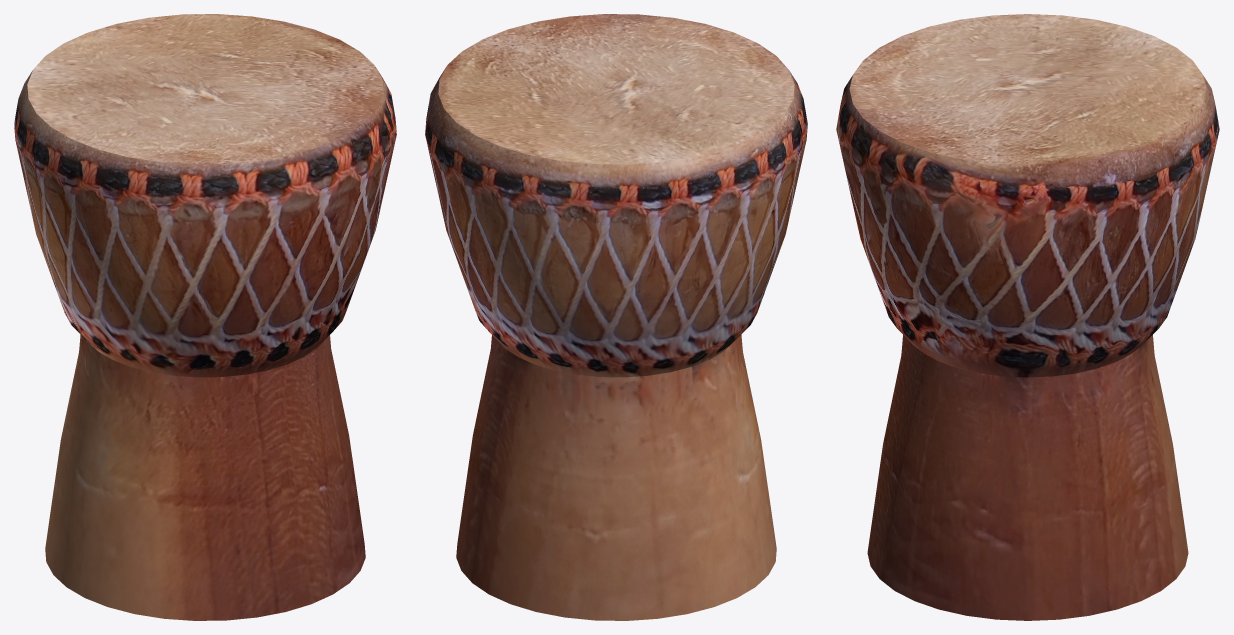
File: Drum.glb
3 renders of one model, left to right at view 1: azimuth 30°, elevation 25°; view 2: azimuth 150°, elevation 25°; view 3: azimuth 270°, elevation 25°, orthographic.
Visible parts, largest first — view 1: Circle; view 2: Circle; view 3: Circle.
Part boxes in pixels (x1=…): Circle: x1=14, y1=14, x2=396, y2=620; Circle: x1=425, y1=14, x2=807, y2=620; Circle: x1=836, y1=14, x2=1219, y2=620.
Size of the model in its own units: 0.3519 by 0.4697 by 0.3519.
Materials: 2 (1 with a texture image).
